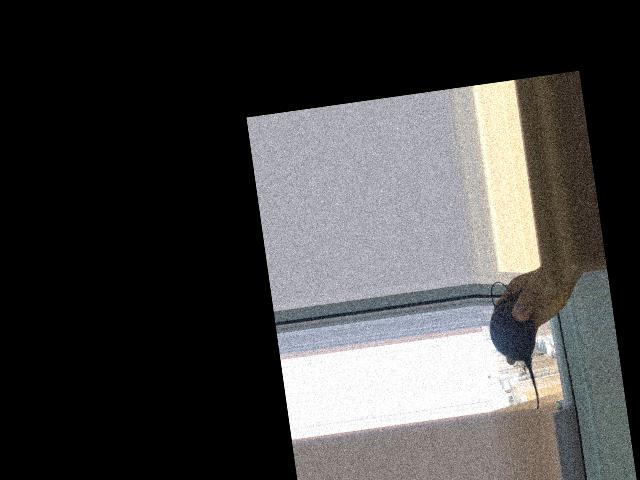beet: (483, 278, 546, 414)
